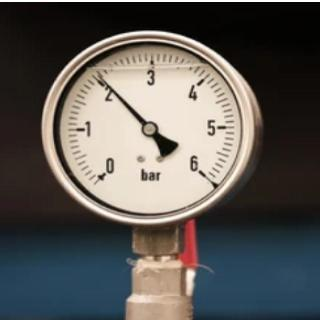gauge: (26, 23, 286, 233), (87, 156, 117, 192), (186, 154, 214, 188), (142, 120, 158, 138), (94, 70, 106, 82)
